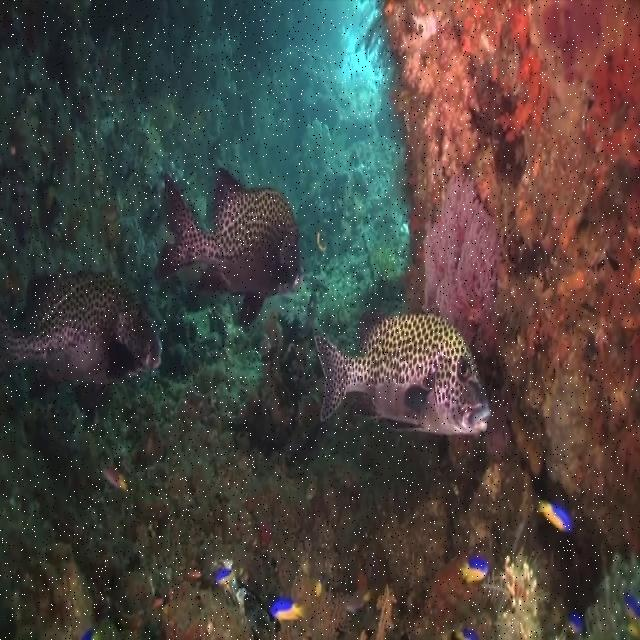fish: (159, 167, 305, 326), (314, 309, 493, 436), (0, 267, 164, 386), (536, 497, 575, 532), (459, 554, 490, 584), (269, 597, 305, 620), (99, 463, 128, 489), (215, 568, 238, 583)
